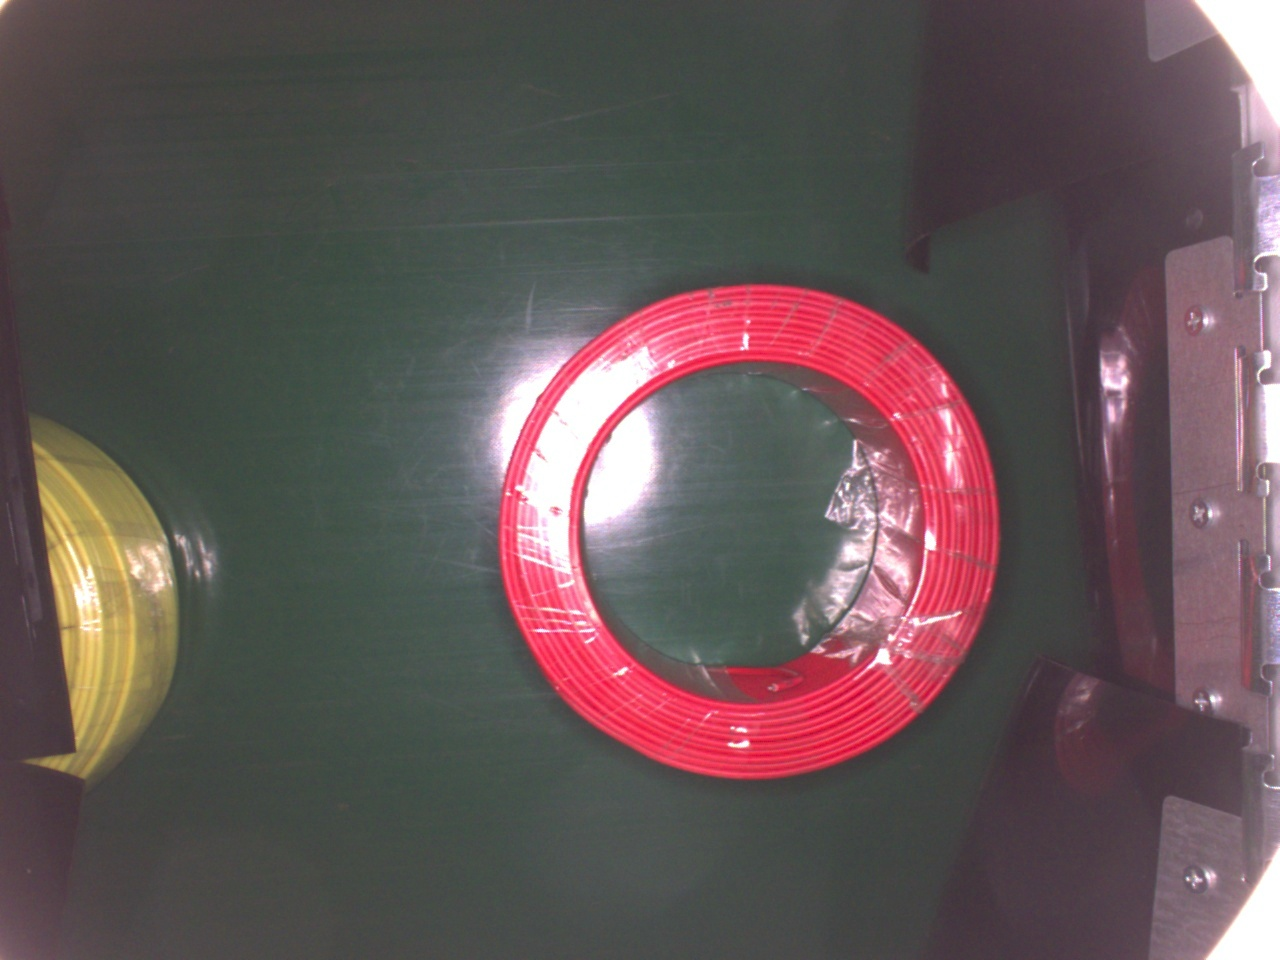red: (494, 280, 1006, 781)
yellow: (27, 416, 180, 783)
